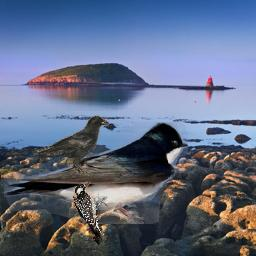Crow: (31, 115, 109, 176)
Swallow: (4, 122, 188, 224)
Woodpecker: (70, 179, 112, 245)
